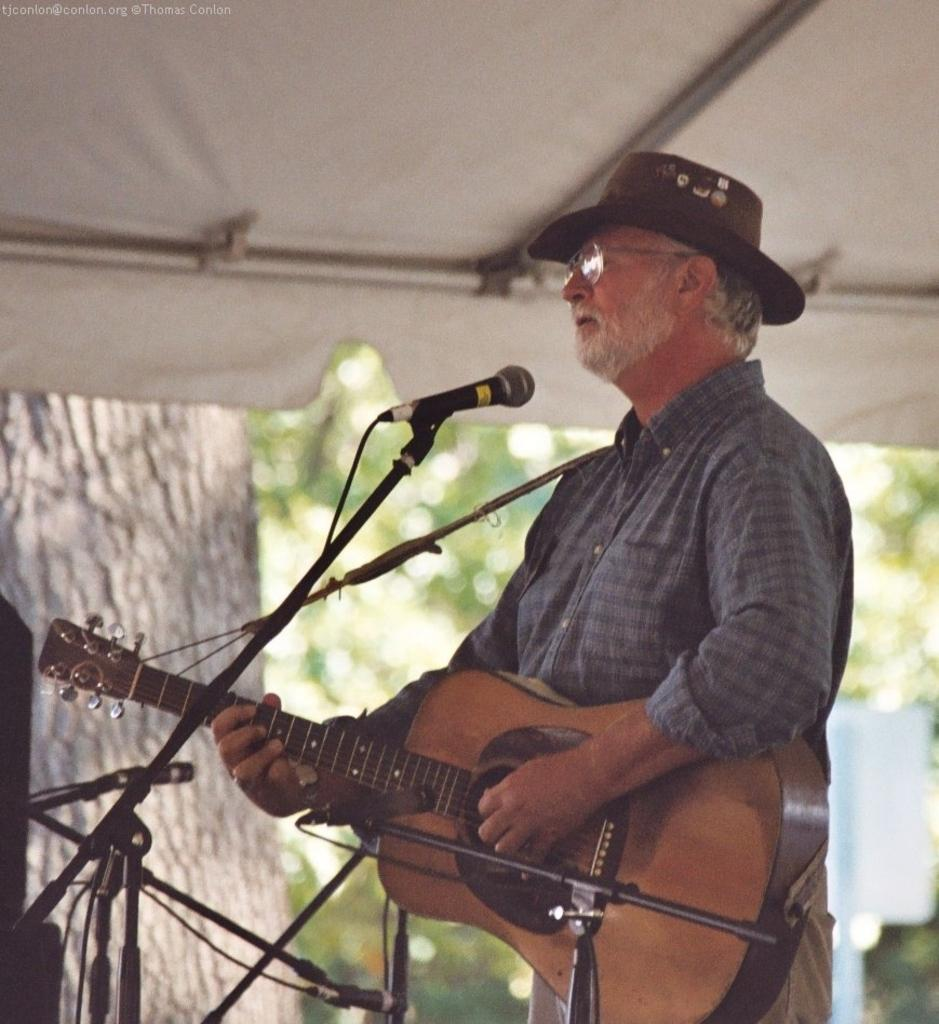Hat: (528, 148, 806, 326)
